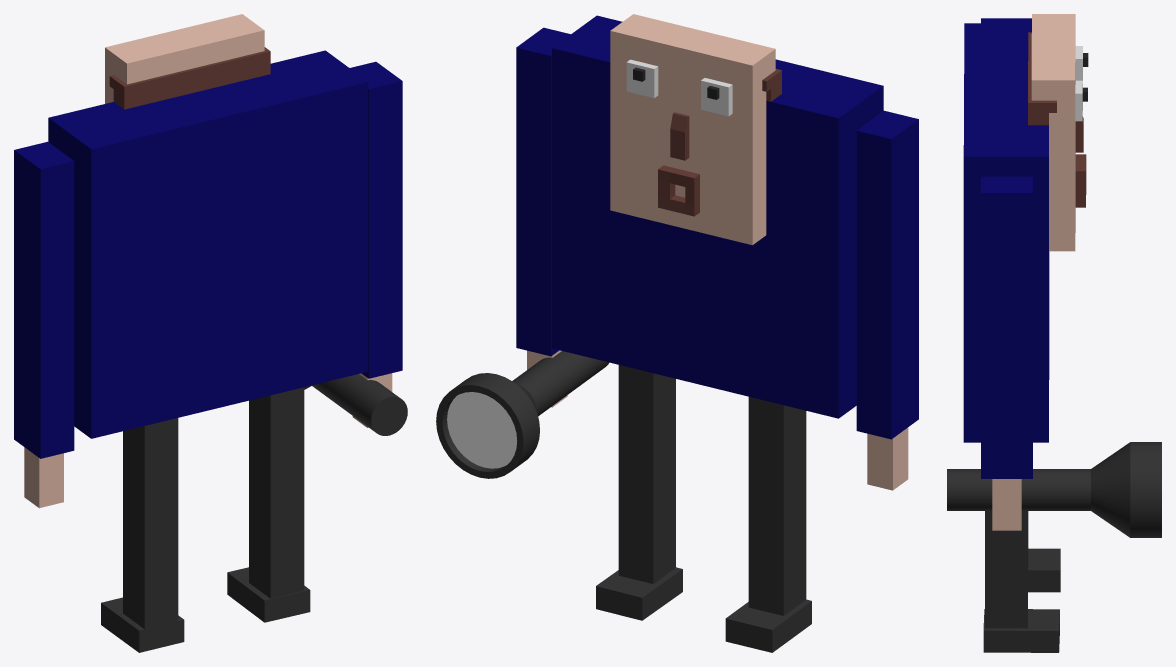
Rendered from OldManFixedIThinkSecondTry.fbx.
3 views of the same model, side by side, from view 1: azimuth 30°, elevation 25°; view 2: azimuth 150°, elevation 25°; view 3: azimuth 270°, elevation 25° (orthographic). The views are drawn at different scales.
Parts seen in each view (by area): view 1: Cube, Cube.002, Cube.005, Cube.009, Cube.032, Cube.001, Cube.003, Cylinder, Cube.004, Cube.008, Cube.007; view 2: Cube, Cube.001, Cube.002, Cube.009, Cube.005, Cube.032, Cylinder, Cube.008, Cube.004, Cube.007, Cube.011, Cube.010 (+1 smaller); view 3: Cube, Cube.032, Cylinder, Cube.001, Cube.005, Cube.004, Cube.031, Cube.008, Cube.003, Cube.010, Cube.011.
Part boxes in pixels (x1,y1,x2,y2): Cube: (48, 50, 368, 438); Cube.002: (14, 141, 74, 458); Cube.005: (249, 387, 304, 598); Cube.009: (123, 418, 178, 629); Cube.032: (350, 61, 402, 378); Cube.001: (105, 14, 264, 103); Cube.003: (109, 47, 270, 109); Cylinder: (304, 374, 407, 435); Cube.004: (227, 567, 310, 622); Cube.008: (101, 597, 184, 652); Cube.007: (24, 447, 63, 508); Cube: (552, 15, 883, 418); Cube.001: (610, 14, 775, 245); Cube.002: (856, 110, 918, 439); Cube.009: (748, 397, 806, 615); Cube.005: (618, 365, 675, 583); Cube.032: (516, 27, 570, 356); Cylinder: (436, 351, 609, 478); Cube.008: (725, 599, 811, 652); Cube.004: (596, 567, 682, 620); Cube.007: (867, 427, 908, 490); Cube.011: (626, 59, 732, 116); Cube.010: (658, 165, 699, 216); Cube: (963, 23, 1049, 442); Cube.032: (981, 176, 1032, 478); Cylinder: (947, 442, 1161, 537); Cube.001: (1031, 14, 1075, 251); Cube.005: (985, 511, 1027, 628); Cube.004: (983, 609, 1059, 652); Cube.031: (992, 479, 1021, 530); Cube.008: (1028, 548, 1060, 592); Cube.003: (1028, 32, 1056, 125); Cube.010: (1075, 154, 1086, 207); Cube.011: (1075, 46, 1082, 121).
Bounding box in the file's own units: 140 × 203 × 70.42.
